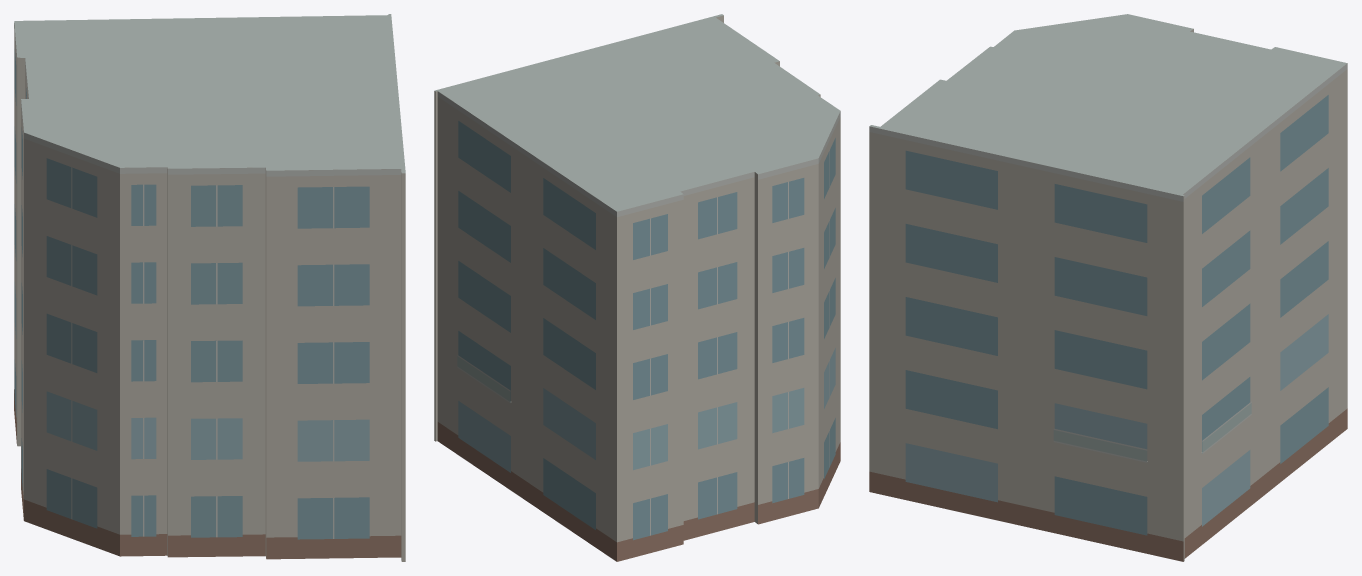
Rendered from survey-upis-32846967.glb.
3 views of the same model, side by side, from view 1: azimuth 30°, elevation 25°; view 2: azimuth 150°, elevation 25°; view 3: azimuth 270°, elevation 25° (orthographic). The views are drawn at different scales.
Parts seen in each view (by area): view 1: survey-upis-32846967.tmp; view 2: survey-upis-32846967.tmp; view 3: survey-upis-32846967.tmp.
Part boxes in pixels (x1=…): survey-upis-32846967.tmp: x1=14, y1=14, x2=405, y2=561; survey-upis-32846967.tmp: x1=434, y1=14, x2=840, y2=561; survey-upis-32846967.tmp: x1=869, y1=14, x2=1347, y2=561.
Bounding box in the file's own units: 16.77 × 15.68 × 18.59.
